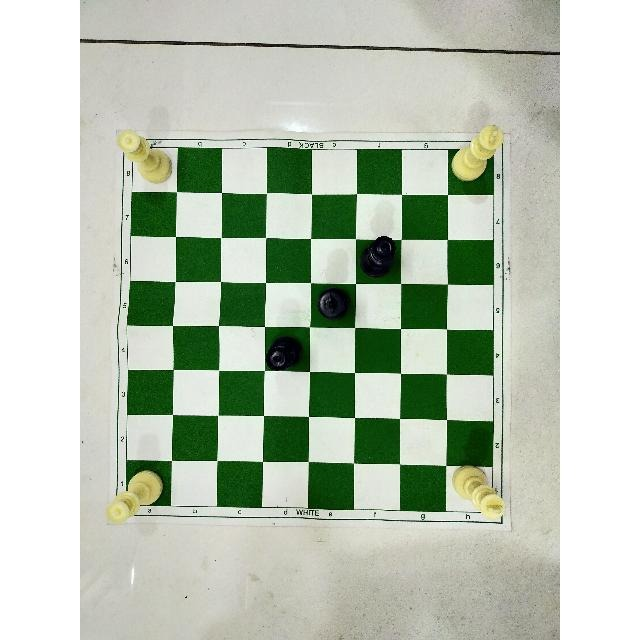black-king: (313, 286, 356, 320)
black-queen: (360, 234, 396, 281), (264, 335, 304, 373)
white-king: (450, 123, 506, 185), (450, 463, 507, 522)
white-queen: (103, 463, 164, 526), (117, 131, 179, 185)
